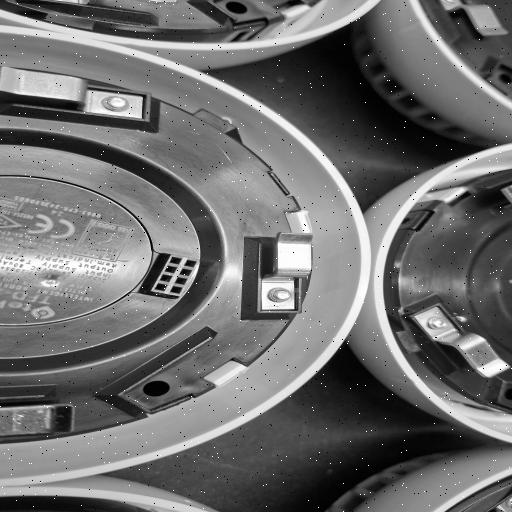konnektor: (133, 245, 204, 308)
yaysiz: (401, 292, 512, 386), (240, 222, 326, 322)
